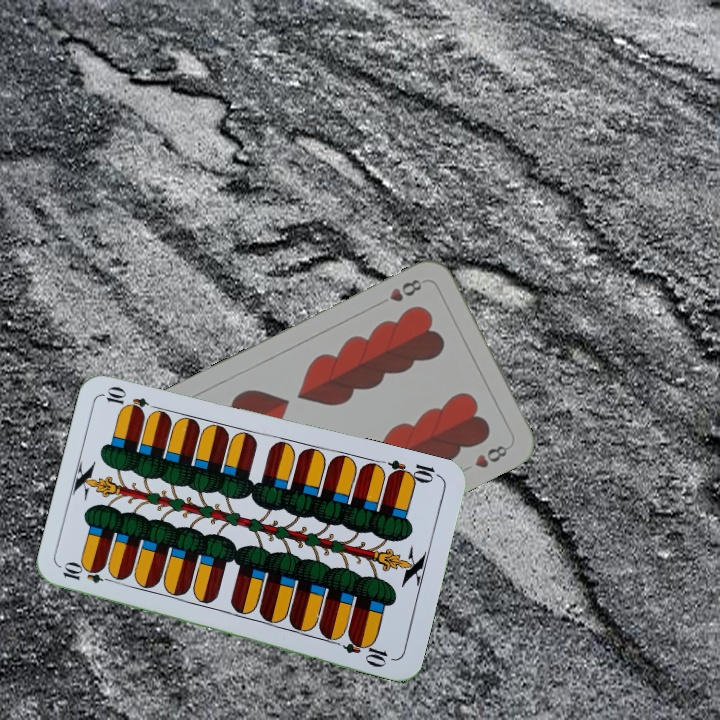E10: (384, 455, 443, 486), (59, 561, 118, 587)
H8: (385, 275, 425, 305)
